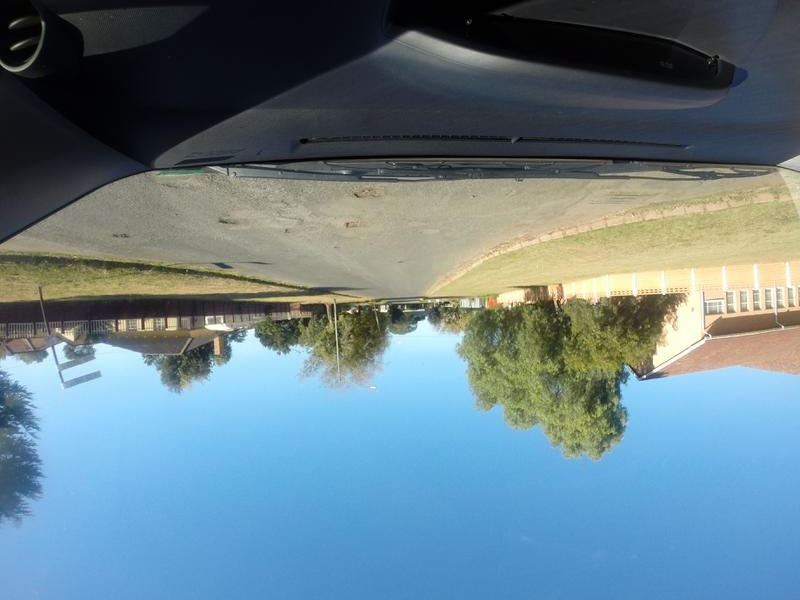pothole: (150, 175, 202, 197), (340, 187, 383, 209), (326, 211, 365, 230), (205, 211, 242, 230), (99, 229, 132, 243)
